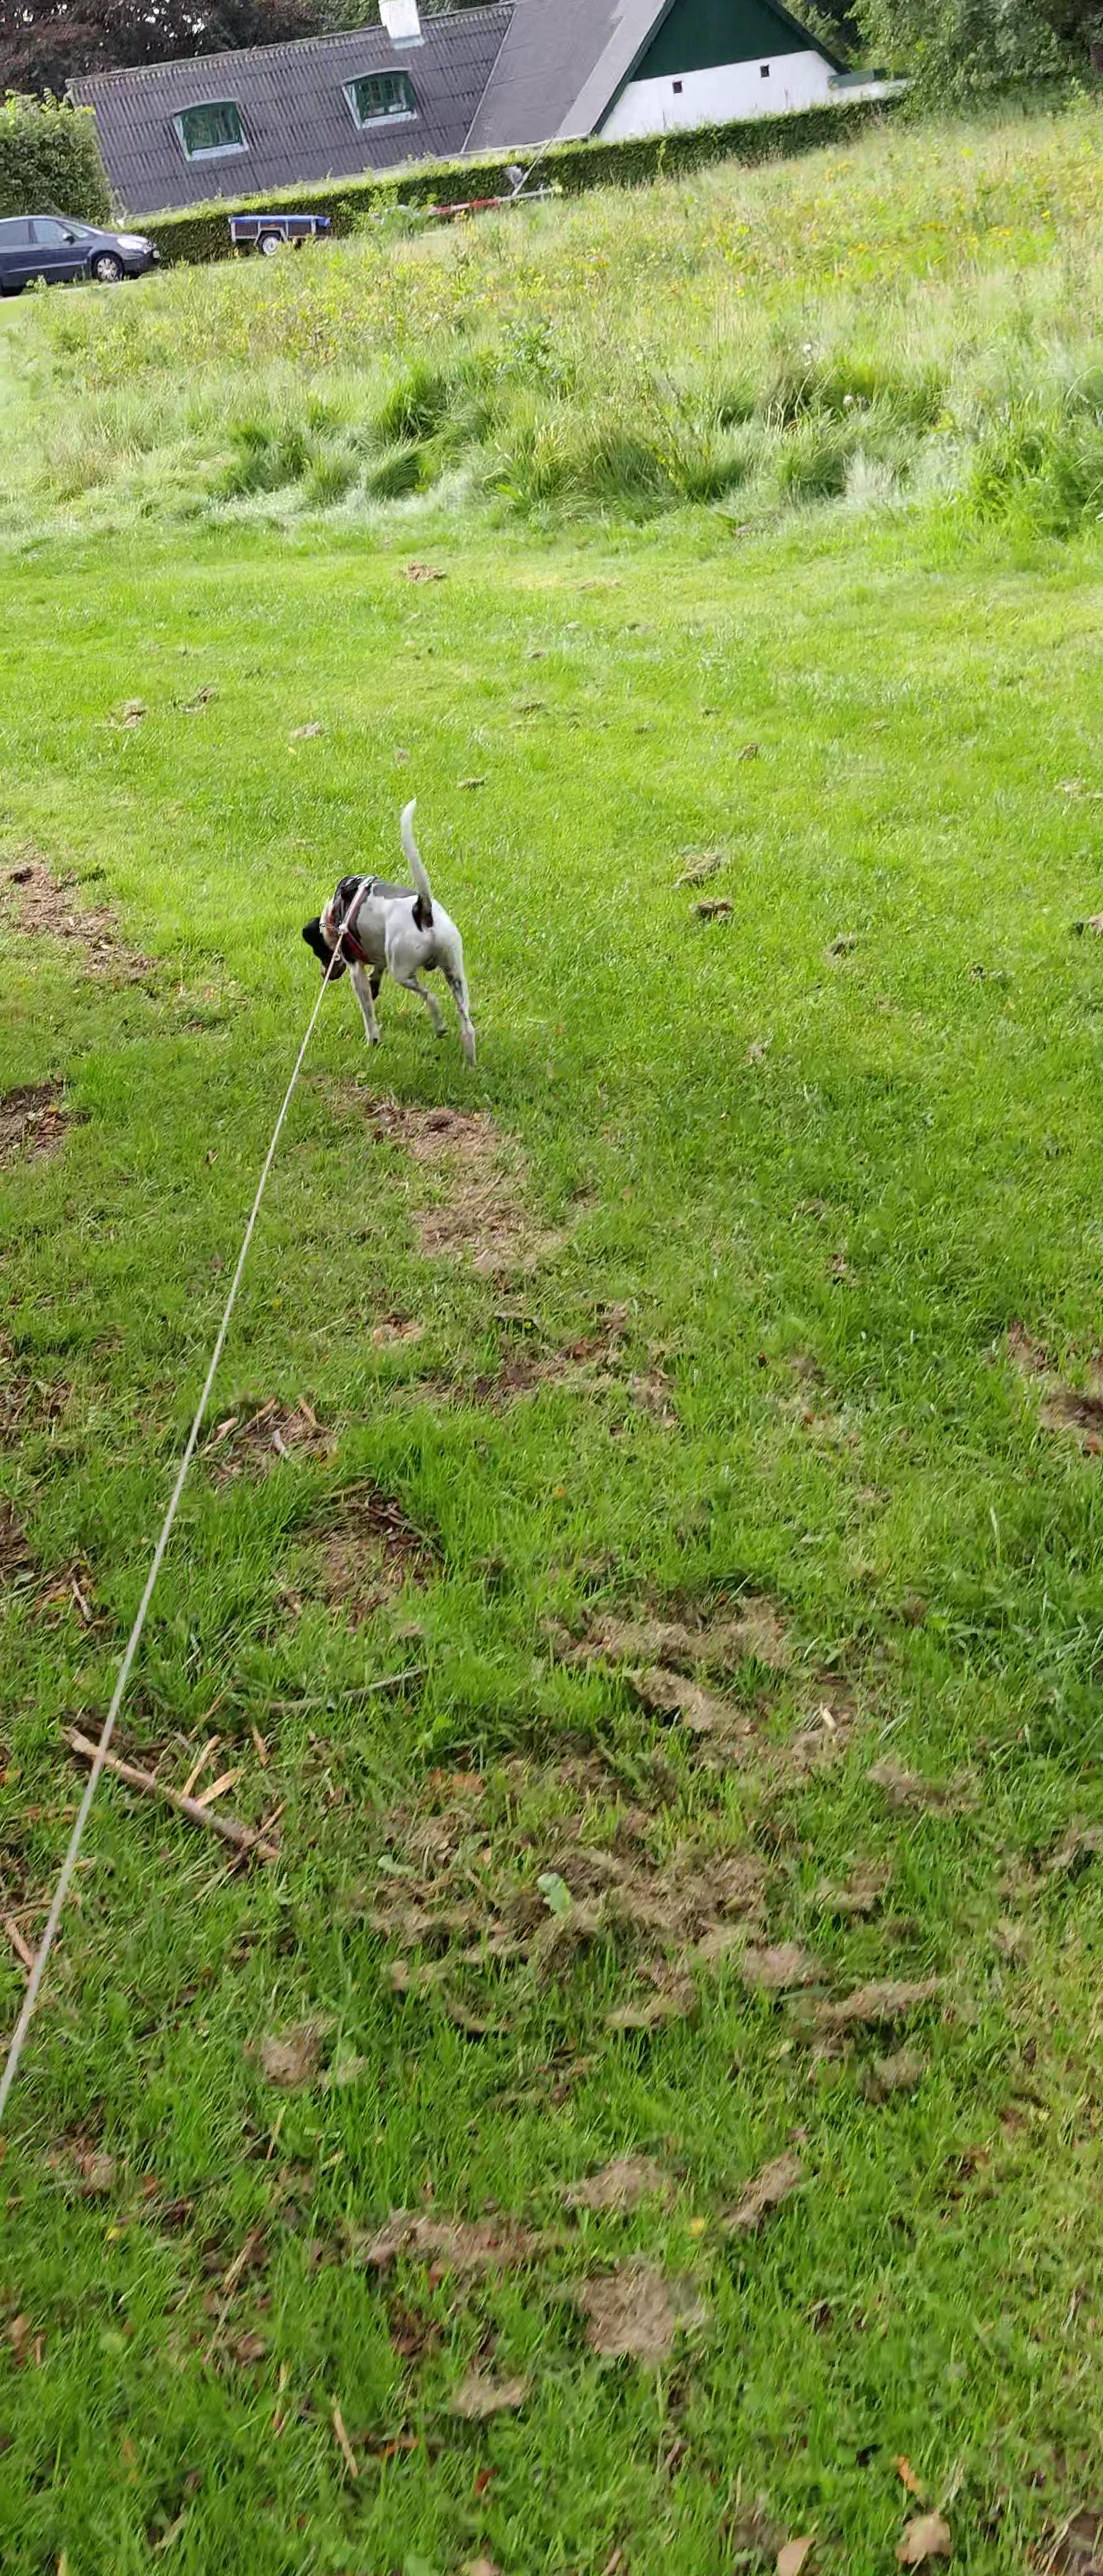Dog: (296, 792, 482, 1069)
